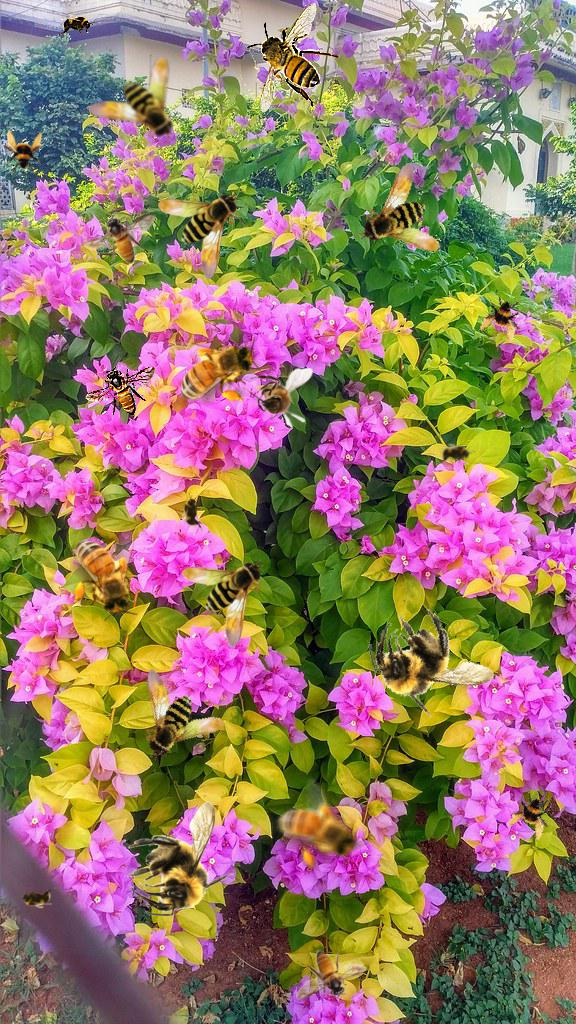Bee: (361, 595, 502, 730), (261, 771, 373, 888), (127, 801, 234, 916), (121, 651, 229, 763), (357, 153, 459, 261), (246, 2, 340, 113), (182, 560, 264, 648), (158, 192, 240, 280), (87, 58, 175, 140), (168, 337, 261, 405), (70, 528, 138, 621), (243, 368, 313, 429), (84, 214, 155, 264), (296, 950, 367, 1000), (85, 366, 156, 416), (504, 786, 562, 844), (476, 290, 532, 346), (0, 130, 44, 174), (16, 887, 56, 909), (57, 14, 97, 36), (436, 443, 476, 465), (181, 492, 203, 532)
